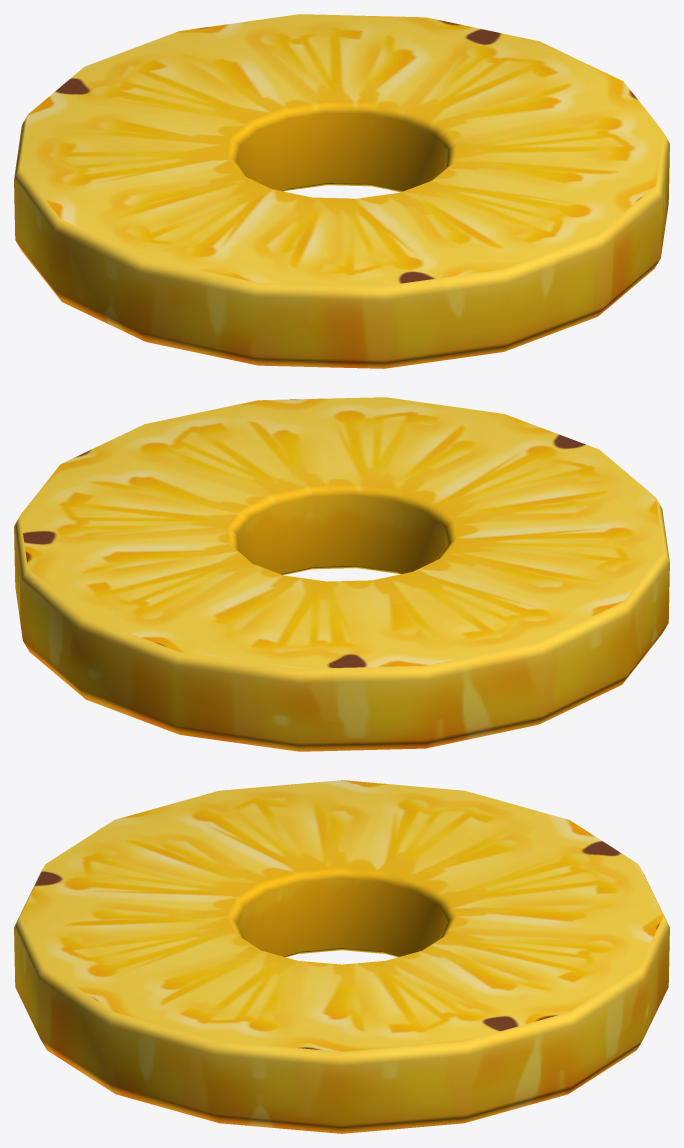
The model's file is pineapple.fbx.
3 views of the same model, one above another, from view 1: azimuth 30°, elevation 25°; view 2: azimuth 150°, elevation 25°; view 3: azimuth 270°, elevation 25° (orthographic).
Parts seen in each view (by area): view 1: Pineapple_Ring; view 2: Pineapple_Ring; view 3: Pineapple_Ring.
Part boxes in pixels (box(x1,y1,x2,y2)): Pineapple_Ring: box(14, 14, 669, 368); Pineapple_Ring: box(14, 397, 669, 751); Pineapple_Ring: box(14, 780, 669, 1133).
Bounding box in the file's own units: 47.98 × 6.67 × 47.98.
